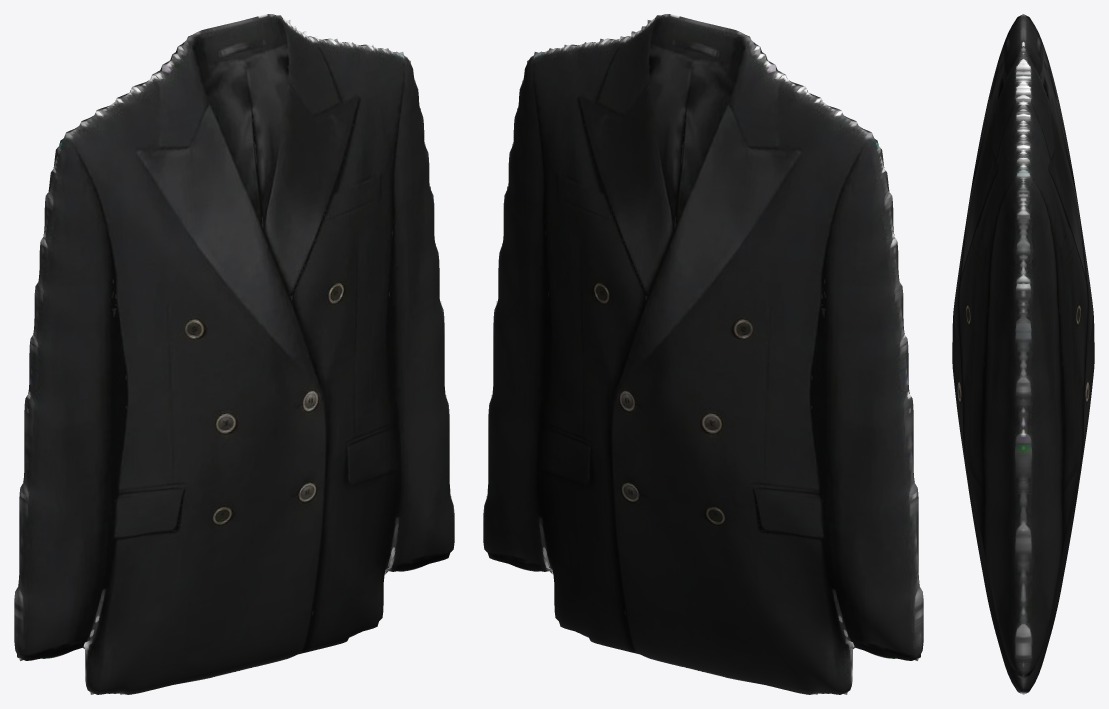
Rendered from prod-ae-noir-tailored-blazer.glb.
3 views of the same model, side by side, from view 1: azimuth 30°, elevation 25°; view 2: azimuth 150°, elevation 25°; view 3: azimuth 270°, elevation 25° (orthographic). The views are drawn at different scales.
Visible parts, largest first — view 1: prod-ae-noir-tailored-blazer_standalone; view 2: prod-ae-noir-tailored-blazer_standalone; view 3: prod-ae-noir-tailored-blazer_standalone.
Boxes of the visible parts, x1,y1,x2,y2 form: prod-ae-noir-tailored-blazer_standalone: [14, 14, 454, 694]; prod-ae-noir-tailored-blazer_standalone: [483, 14, 923, 694]; prod-ae-noir-tailored-blazer_standalone: [952, 14, 1094, 694].
Bounding box in the file's own units: 0.4193 × 0.5988 × 0.1267.
Materials: 1 (1 with a texture image).
